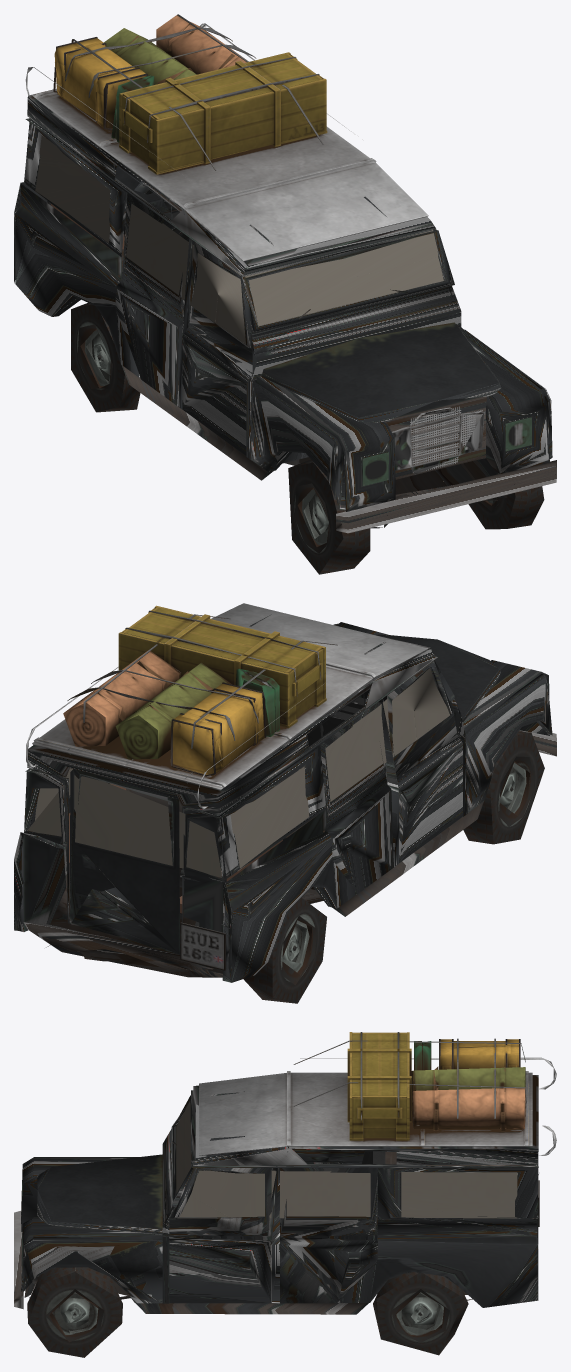
File: land_rover_night_game.gltf
The picture shows the model from 3 angles, top to bottom: view 1: azimuth 30°, elevation 25°; view 2: azimuth 150°, elevation 25°; view 3: azimuth 270°, elevation 25°; orthographic projection. The views are drawn at different scales.
Visible parts, largest first — view 1: land_rover; view 2: land_rover; view 3: land_rover.
Part boxes in pixels (<box>): land_rover: <box>14,14,556,574</box>; land_rover: <box>14,603,556,1003</box>; land_rover: <box>14,1032,556,1357</box>.
Size of the model in its own units: 1.49 by 2.07 by 3.97.
Materials: 6 (6 with a texture image).
